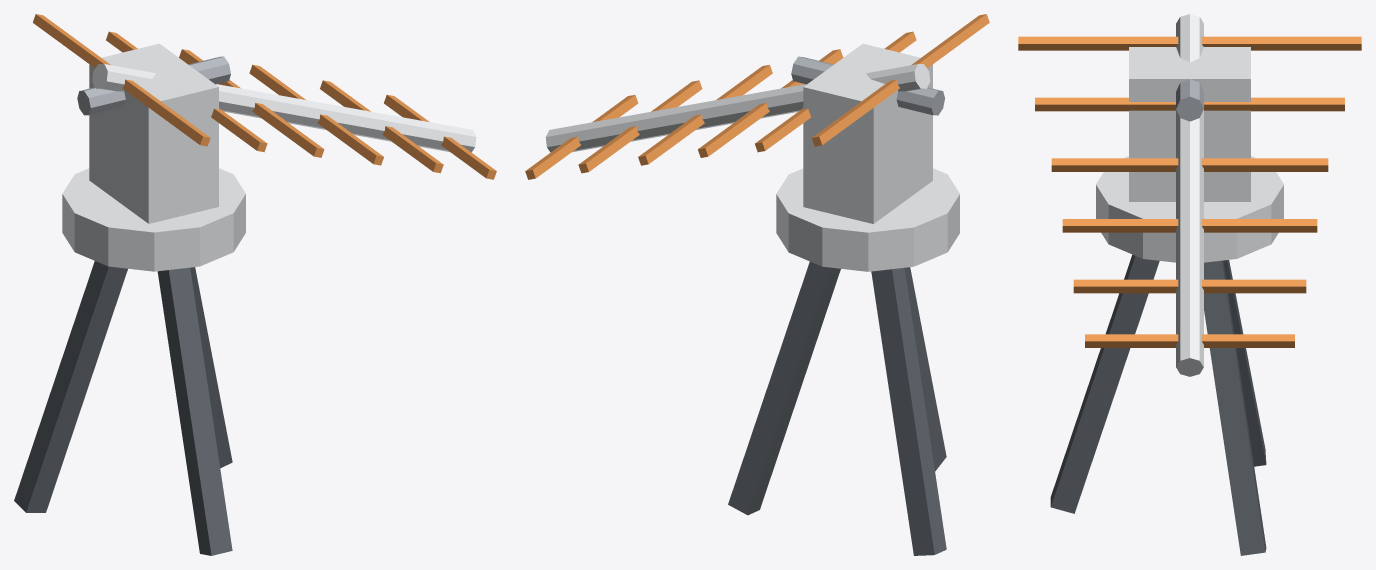
File: antenna-tracker.glb
3 views of the same model, side by side, from view 1: azimuth 30°, elevation 25°; view 2: azimuth 150°, elevation 25°; view 3: azimuth 270°, elevation 25° (orthographic). The views are drawn at different scales.
Size of the model in its own units: 1.81 by 1.88 by 1.24.
